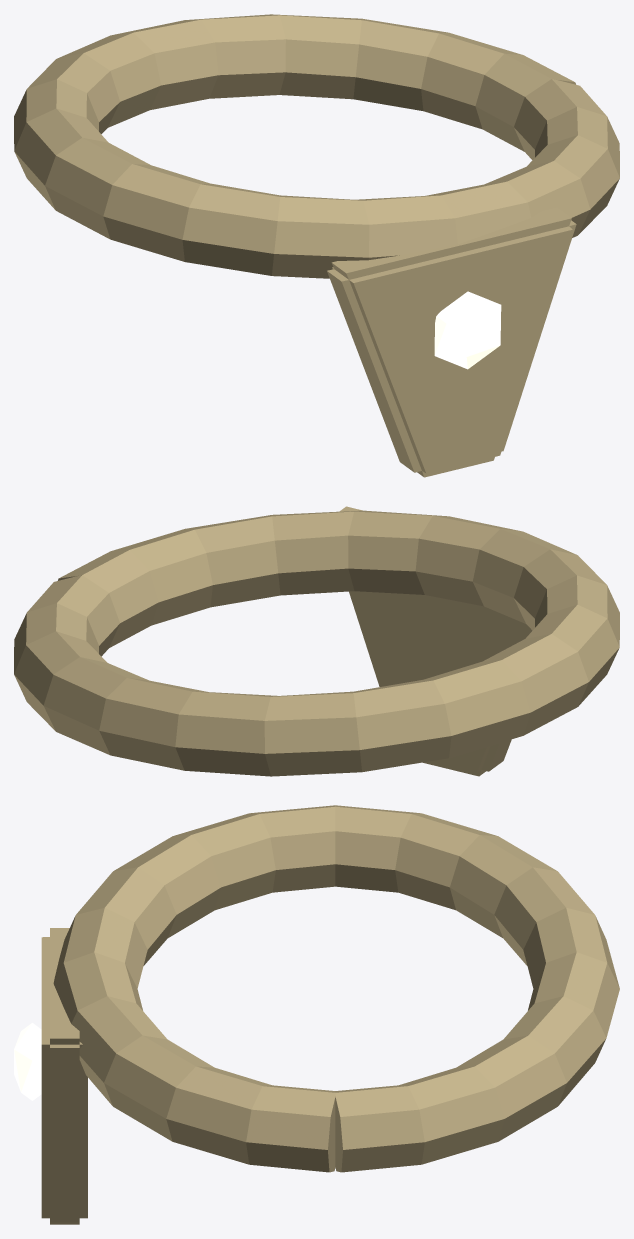
The model's file is echo-gorget.glb.
3 renders of one model, top to bottom at view 1: azimuth 30°, elevation 25°; view 2: azimuth 150°, elevation 25°; view 3: azimuth 270°, elevation 25°, orthographic.
Parts seen in each view (by area): view 1: Echo_gorget_band, Echo_gorget_plate, Echo_gorget_boss; view 2: Echo_gorget_band, Echo_gorget_plate; view 3: Echo_gorget_band, Echo_gorget_plate, Echo_gorget_boss.
Part boxes in pixels (left/top/right/bottom): Echo_gorget_band: left=14, top=14, right=619, bottom=278; Echo_gorget_plate: left=327, top=207, right=576, bottom=477; Echo_gorget_boss: left=434, top=291, right=501, bottom=369; Echo_gorget_band: left=14, top=510, right=619, bottom=776; Echo_gorget_plate: left=339, top=506, right=532, bottom=776; Echo_gorget_band: left=53, top=805, right=619, bottom=1172; Echo_gorget_plate: left=41, top=928, right=87, bottom=1224; Echo_gorget_boss: left=14, top=1023, right=41, bottom=1100.
Size of the model in its own units: 0.2038 by 0.102 by 0.196.
